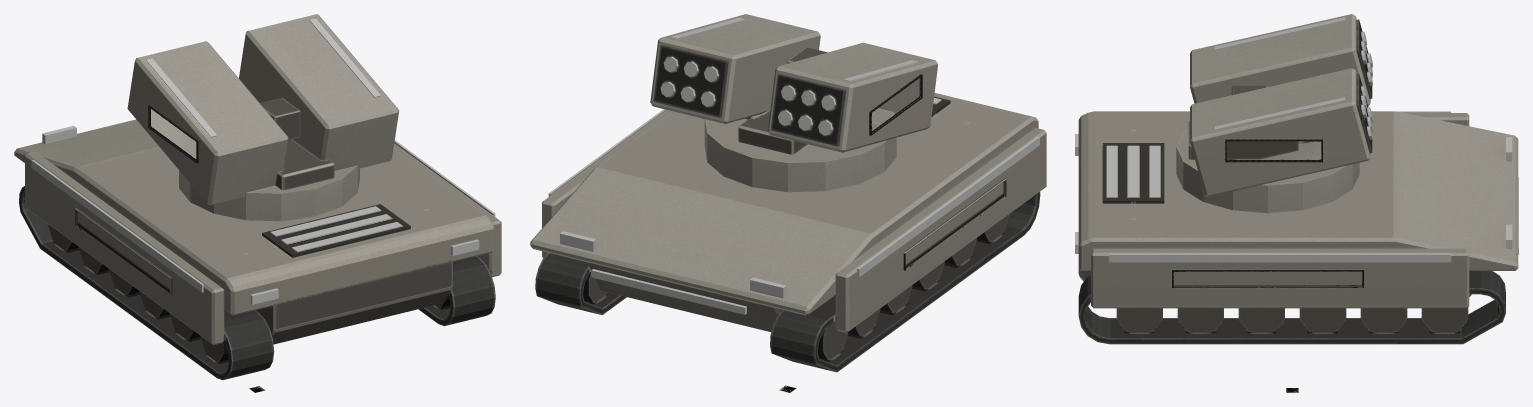
The model's file is ord_gemini.fbx.
The picture shows the model from 3 angles, left to right: view 1: azimuth 30°, elevation 25°; view 2: azimuth 150°, elevation 25°; view 3: azimuth 270°, elevation 25°; orthographic projection. The views are drawn at different scales.
Parts seen in each view (by area): view 1: base_bar, turret_bar, trackL_bar, base_glow_running_bar, trackR_bar, turret_glow_running_bar; view 2: base_bar, turret_bar, trackL_bar, base_glow_running_bar, trackR_bar, turret_glow_weapon_bar, base_glow_head_bar, turret_glow_running_bar; view 3: base_bar, turret_bar, trackR_bar, base_glow_running_bar, turret_glow_running_bar, turret_glow_weapon_bar.
Boxes of the visible parts, <box> form: base_bar: <box>14,119,501,344</box>; turret_bar: <box>127,14,399,221</box>; trackL_bar: <box>19,186,274,380</box>; base_glow_running_bar: <box>31,140,495,304</box>; trackR_bar: <box>418,256,495,326</box>; turret_glow_running_bar: <box>146,18,380,137</box>; base_bar: <box>530,93,1046,332</box>; turret_bar: <box>650,14,938,192</box>; trackL_bar: <box>770,192,1040,372</box>; base_glow_running_bar: <box>548,97,1039,314</box>; trackR_bar: <box>535,253,626,315</box>; turret_glow_weapon_bar: <box>660,57,835,135</box>; base_glow_head_bar: <box>560,231,786,298</box>; turret_glow_running_bar: <box>670,18,918,81</box>; base_bar: <box>1078,111,1518,308</box>; turret_bar: <box>1176,14,1372,213</box>; trackR_bar: <box>1078,271,1505,344</box>; base_glow_running_bar: <box>1075,111,1518,262</box>; turret_glow_running_bar: <box>1214,17,1345,130</box>; turret_glow_weapon_bar: <box>1361,31,1372,139</box>.
Bounding box in the file's own units: 556 × 601 × 727.
Materials: 2 (2 with a texture image).
